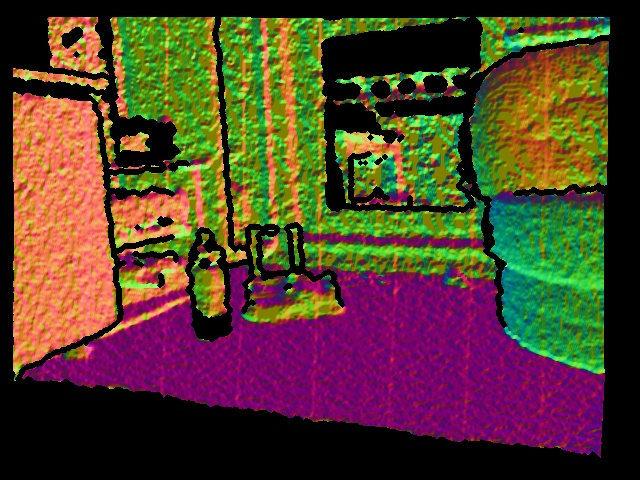station: (246, 228, 303, 301)
